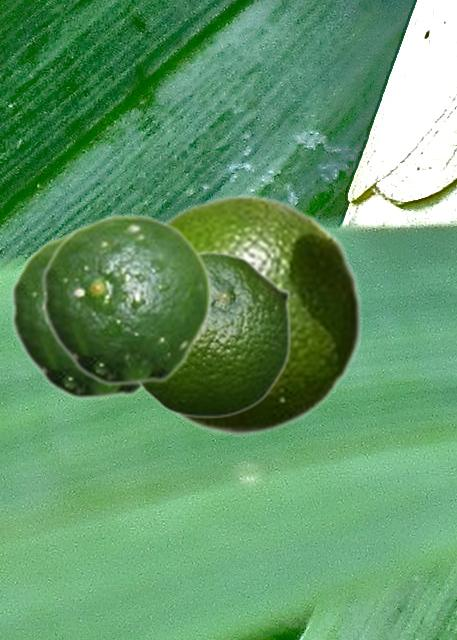calamansi: (155, 193, 363, 435), (41, 213, 212, 386), (136, 251, 291, 418), (10, 227, 143, 400)
